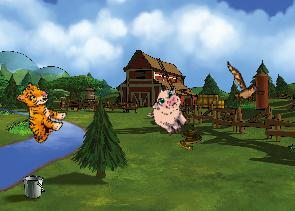eagle: (214, 61, 271, 111)
pig: (142, 84, 197, 140)
tiger: (3, 79, 73, 147)
